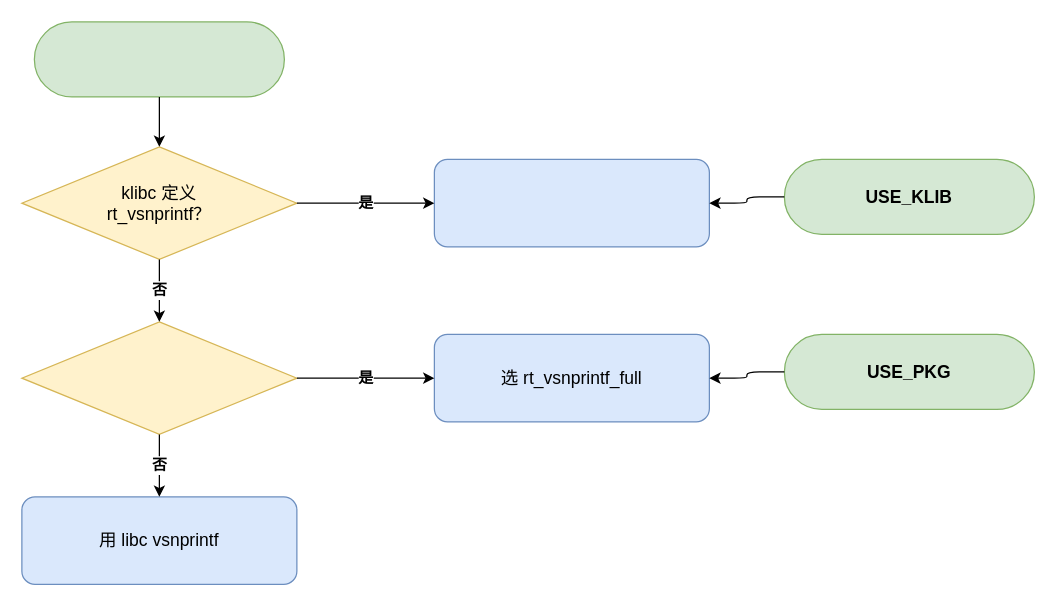
Some shapes in this 1056 by 606 pixel diagram are drawn without their labels. The box of each missing label's shape, as (x1, y1, x2, y2) in pixels:
AUTO: (33, 21, 284, 97)
RT_VER_NUM < 0x50200？: (21, 321, 297, 434)
用内核实现 不选 rt_vsnprintf_full: (433, 158, 709, 247)
